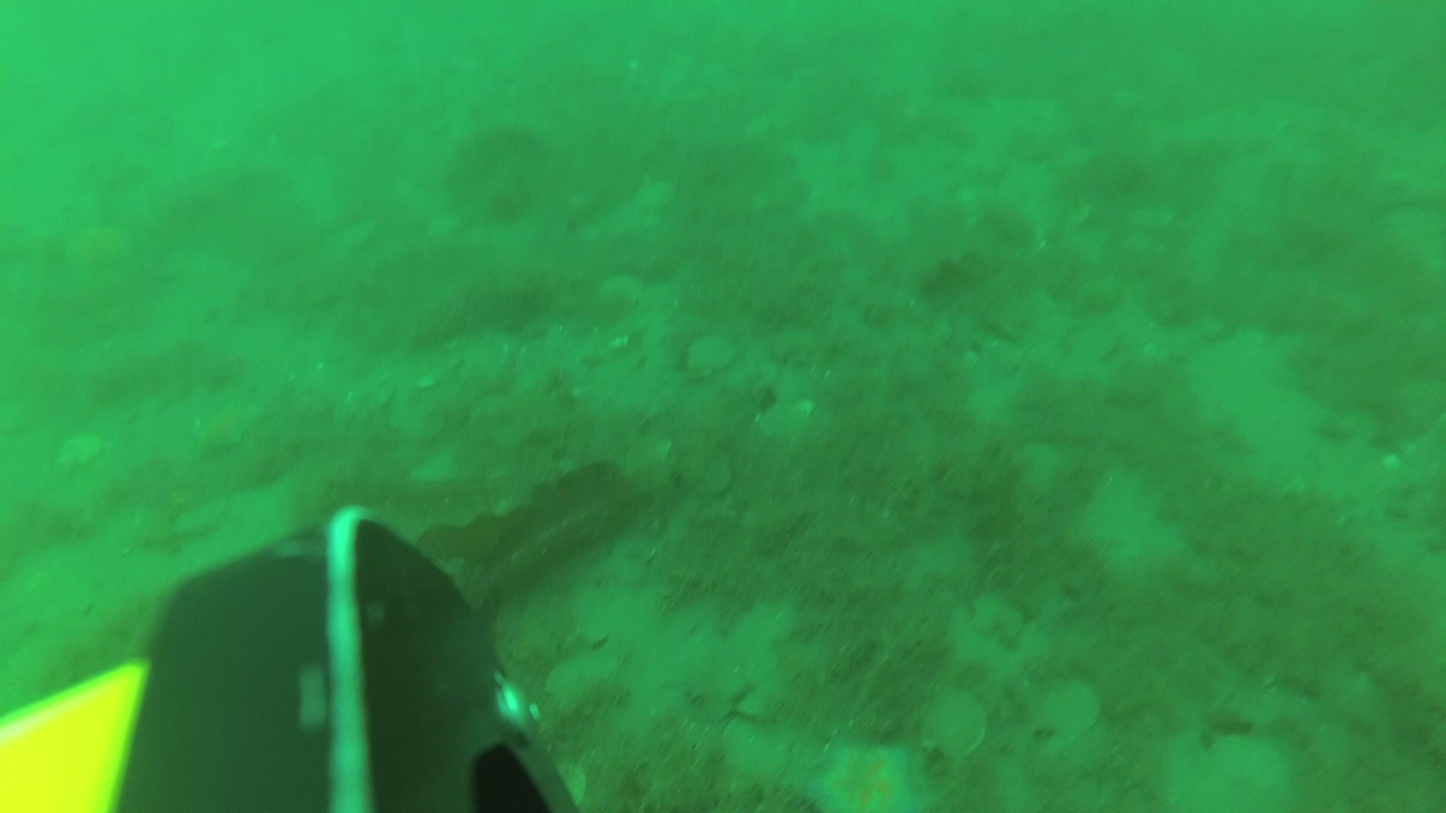holothurian: (795, 731, 945, 813), (58, 218, 138, 288)
scallop: (918, 680, 994, 769), (1022, 677, 1107, 756), (542, 646, 631, 714), (970, 582, 1031, 646), (685, 327, 739, 383)
